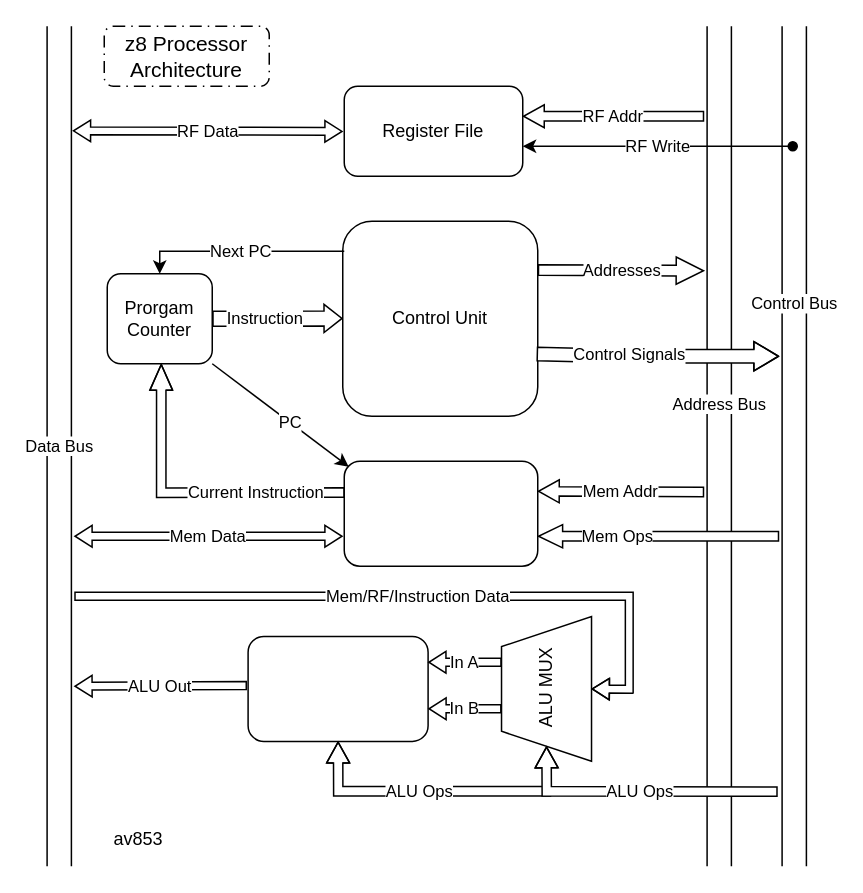
This 863x893 diagram has some shape labels left out. Each missing label, with the box of its shape:
ALU: (247, 635, 428, 741)
Memory: (343, 460, 538, 566)
